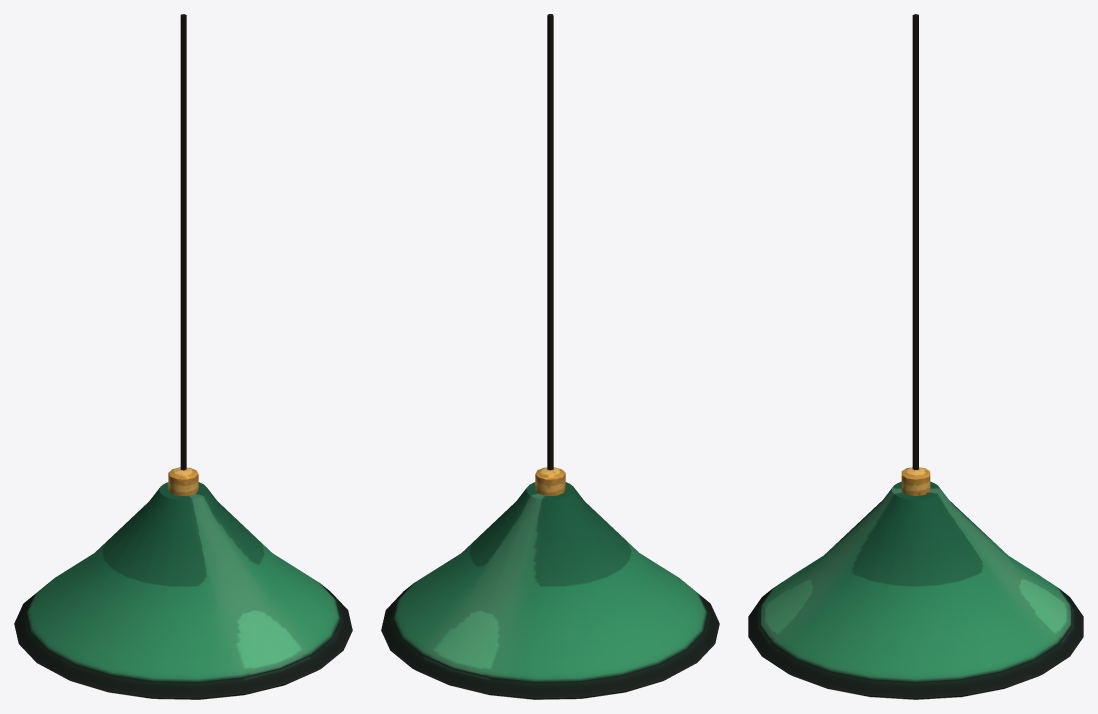
Rendered from Lamp_Shade.fbx.
The picture shows the model from 3 angles, left to right: view 1: azimuth 30°, elevation 25°; view 2: azimuth 150°, elevation 25°; view 3: azimuth 270°, elevation 25°; orthographic projection.
Parts seen in each view (by area): view 1: Lamp_Shade; view 2: Lamp_Shade; view 3: Lamp_Shade.
Boxes of the visible parts, <box> form: Lamp_Shade: <box>14,14,352,699</box>; Lamp_Shade: <box>381,14,719,699</box>; Lamp_Shade: <box>748,14,1083,699</box>.
Size of the model in its own units: 1.12 by 2.25 by 1.11.
2 materials, 2 textured.
